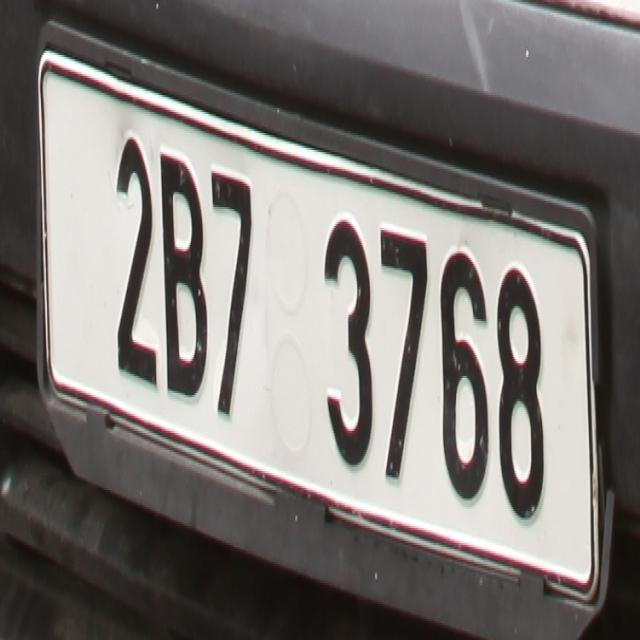2: (114, 127, 158, 396)
3: (321, 216, 374, 464)
6: (439, 242, 491, 500)
7: (377, 228, 430, 486), (210, 171, 254, 414)
8: (492, 255, 548, 524)
B: (158, 144, 210, 406)
